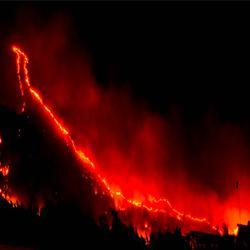fire: (118, 191, 158, 211), (219, 211, 250, 231), (72, 145, 97, 162)
